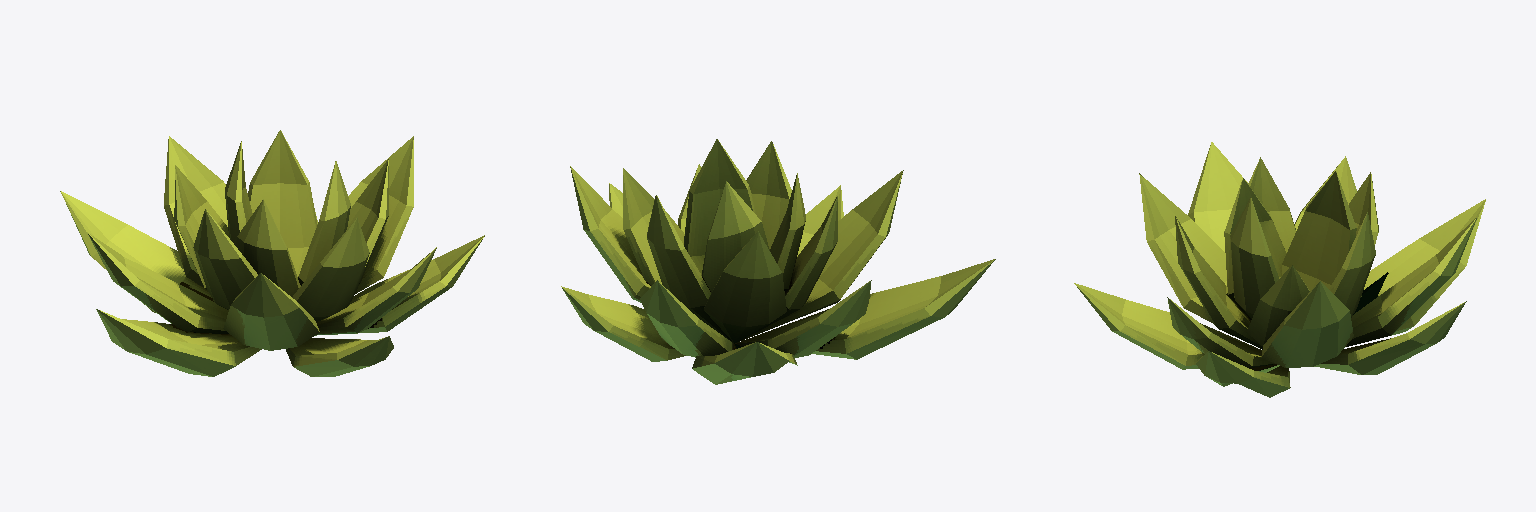
3 views of the same model, side by side, from view 1: azimuth 30°, elevation 25°; view 2: azimuth 150°, elevation 25°; view 3: azimuth 270°, elevation 25° (orthographic).
Visible parts, largest first — view 1: aloe_plant; view 2: aloe_plant; view 3: aloe_plant.
Boxes of the visible parts, box(x1,y1,x2,y2) form: aloe_plant: box(60, 130, 484, 376); aloe_plant: box(561, 139, 995, 384); aloe_plant: box(1074, 142, 1485, 397).
Bounding box in the file's own units: 2 × 0.9071 × 1.84.
1 materials, 1 textured.